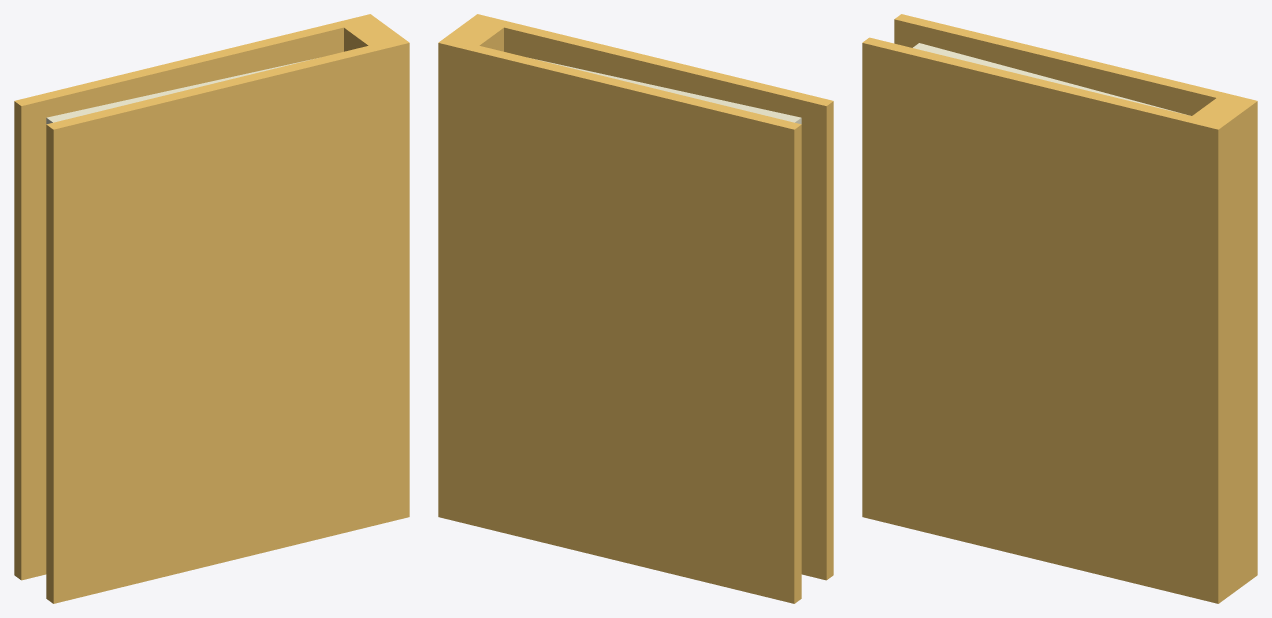
File: book.FBX
3 renders of one model, left to right at view 1: azimuth 30°, elevation 25°; view 2: azimuth 150°, elevation 25°; view 3: azimuth 330°, elevation 25°, orthographic.
Parts seen in each view (by area): view 1: bookSmall; view 2: bookSmall; view 3: bookSmall.
Part boxes in pixels (left/top/right/bottom): bookSmall: left=14, top=14, right=409, bottom=603; bookSmall: left=438, top=14, right=833, bottom=603; bookSmall: left=862, top=14, right=1257, bottom=603.
Size of the model in its own units: 10.4 by 13.22 by 1.99.
